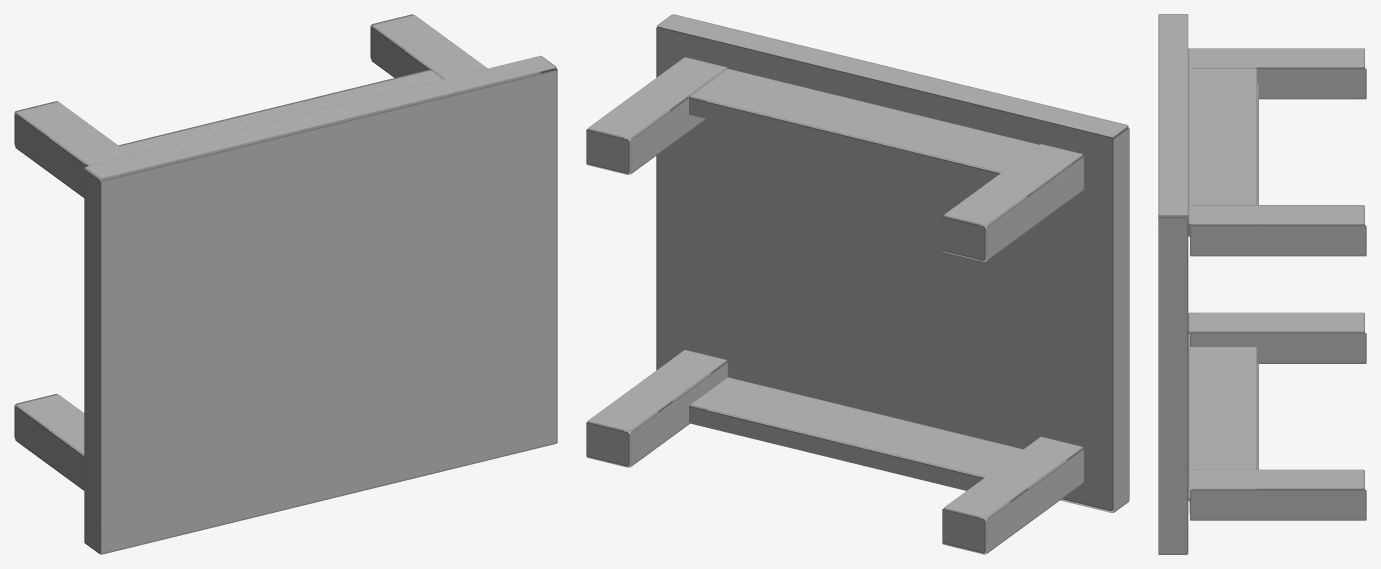
File: pz_table_tables_low_01_white.obj
3 views of the same model, side by side, from view 1: azimuth 30°, elevation 25°; view 2: azimuth 150°, elevation 25°; view 3: azimuth 270°, elevation 25° (orthographic). The views are drawn at different scales.
Bounding box in the file's own units: 0.875 × 0.6875 × 0.3827.
Materials: 1 (1 with a texture image).
